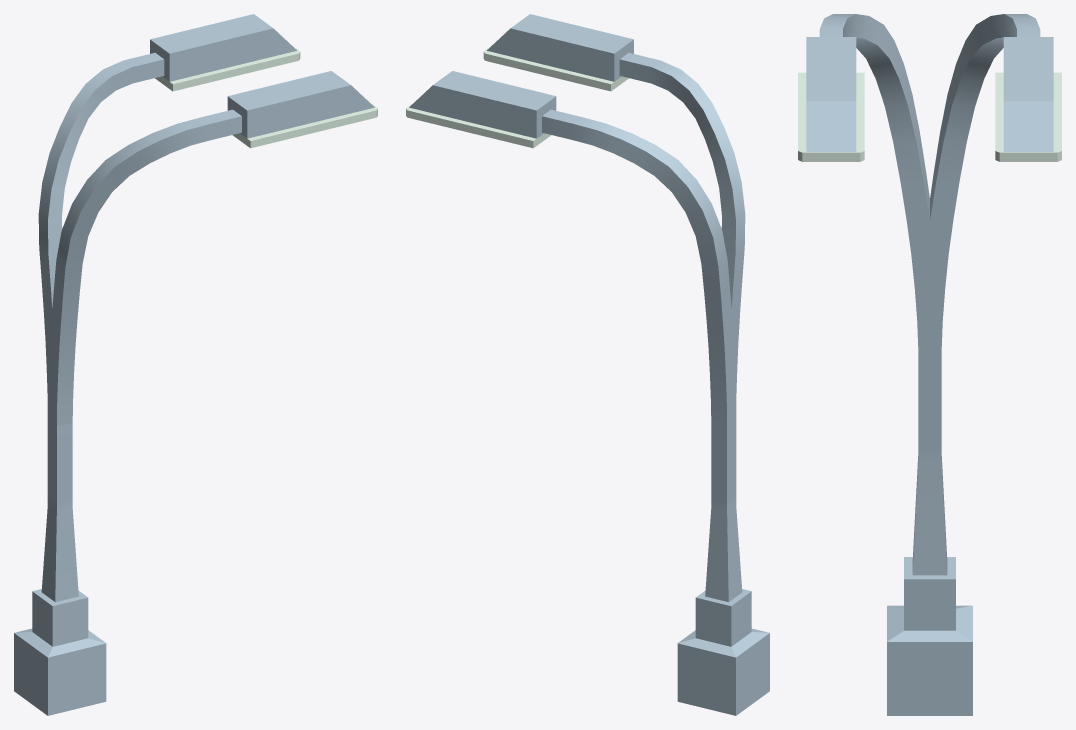
The model's file is streetlight_23.fbx.
3 views of the same model, side by side, from view 1: azimuth 30°, elevation 25°; view 2: azimuth 150°, elevation 25°; view 3: azimuth 270°, elevation 25° (orthographic). The views are drawn at different scales.
Visible parts, largest first — view 1: streetlight_23, streetlight_05_10; view 2: streetlight_23, streetlight_05_10; view 3: streetlight_23, streetlight_05_10.
Boxes of the visible parts, bbox=[...] form: streetlight_23: bbox=[14, 14, 300, 715]; streetlight_05_10: bbox=[47, 71, 377, 426]; streetlight_23: bbox=[406, 71, 769, 715]; streetlight_05_10: bbox=[483, 14, 745, 425]; streetlight_23: bbox=[887, 14, 1061, 715]; streetlight_05_10: bbox=[798, 14, 941, 352].
Size of the model in its own units: 3.67 by 6.94 by 2.22.
